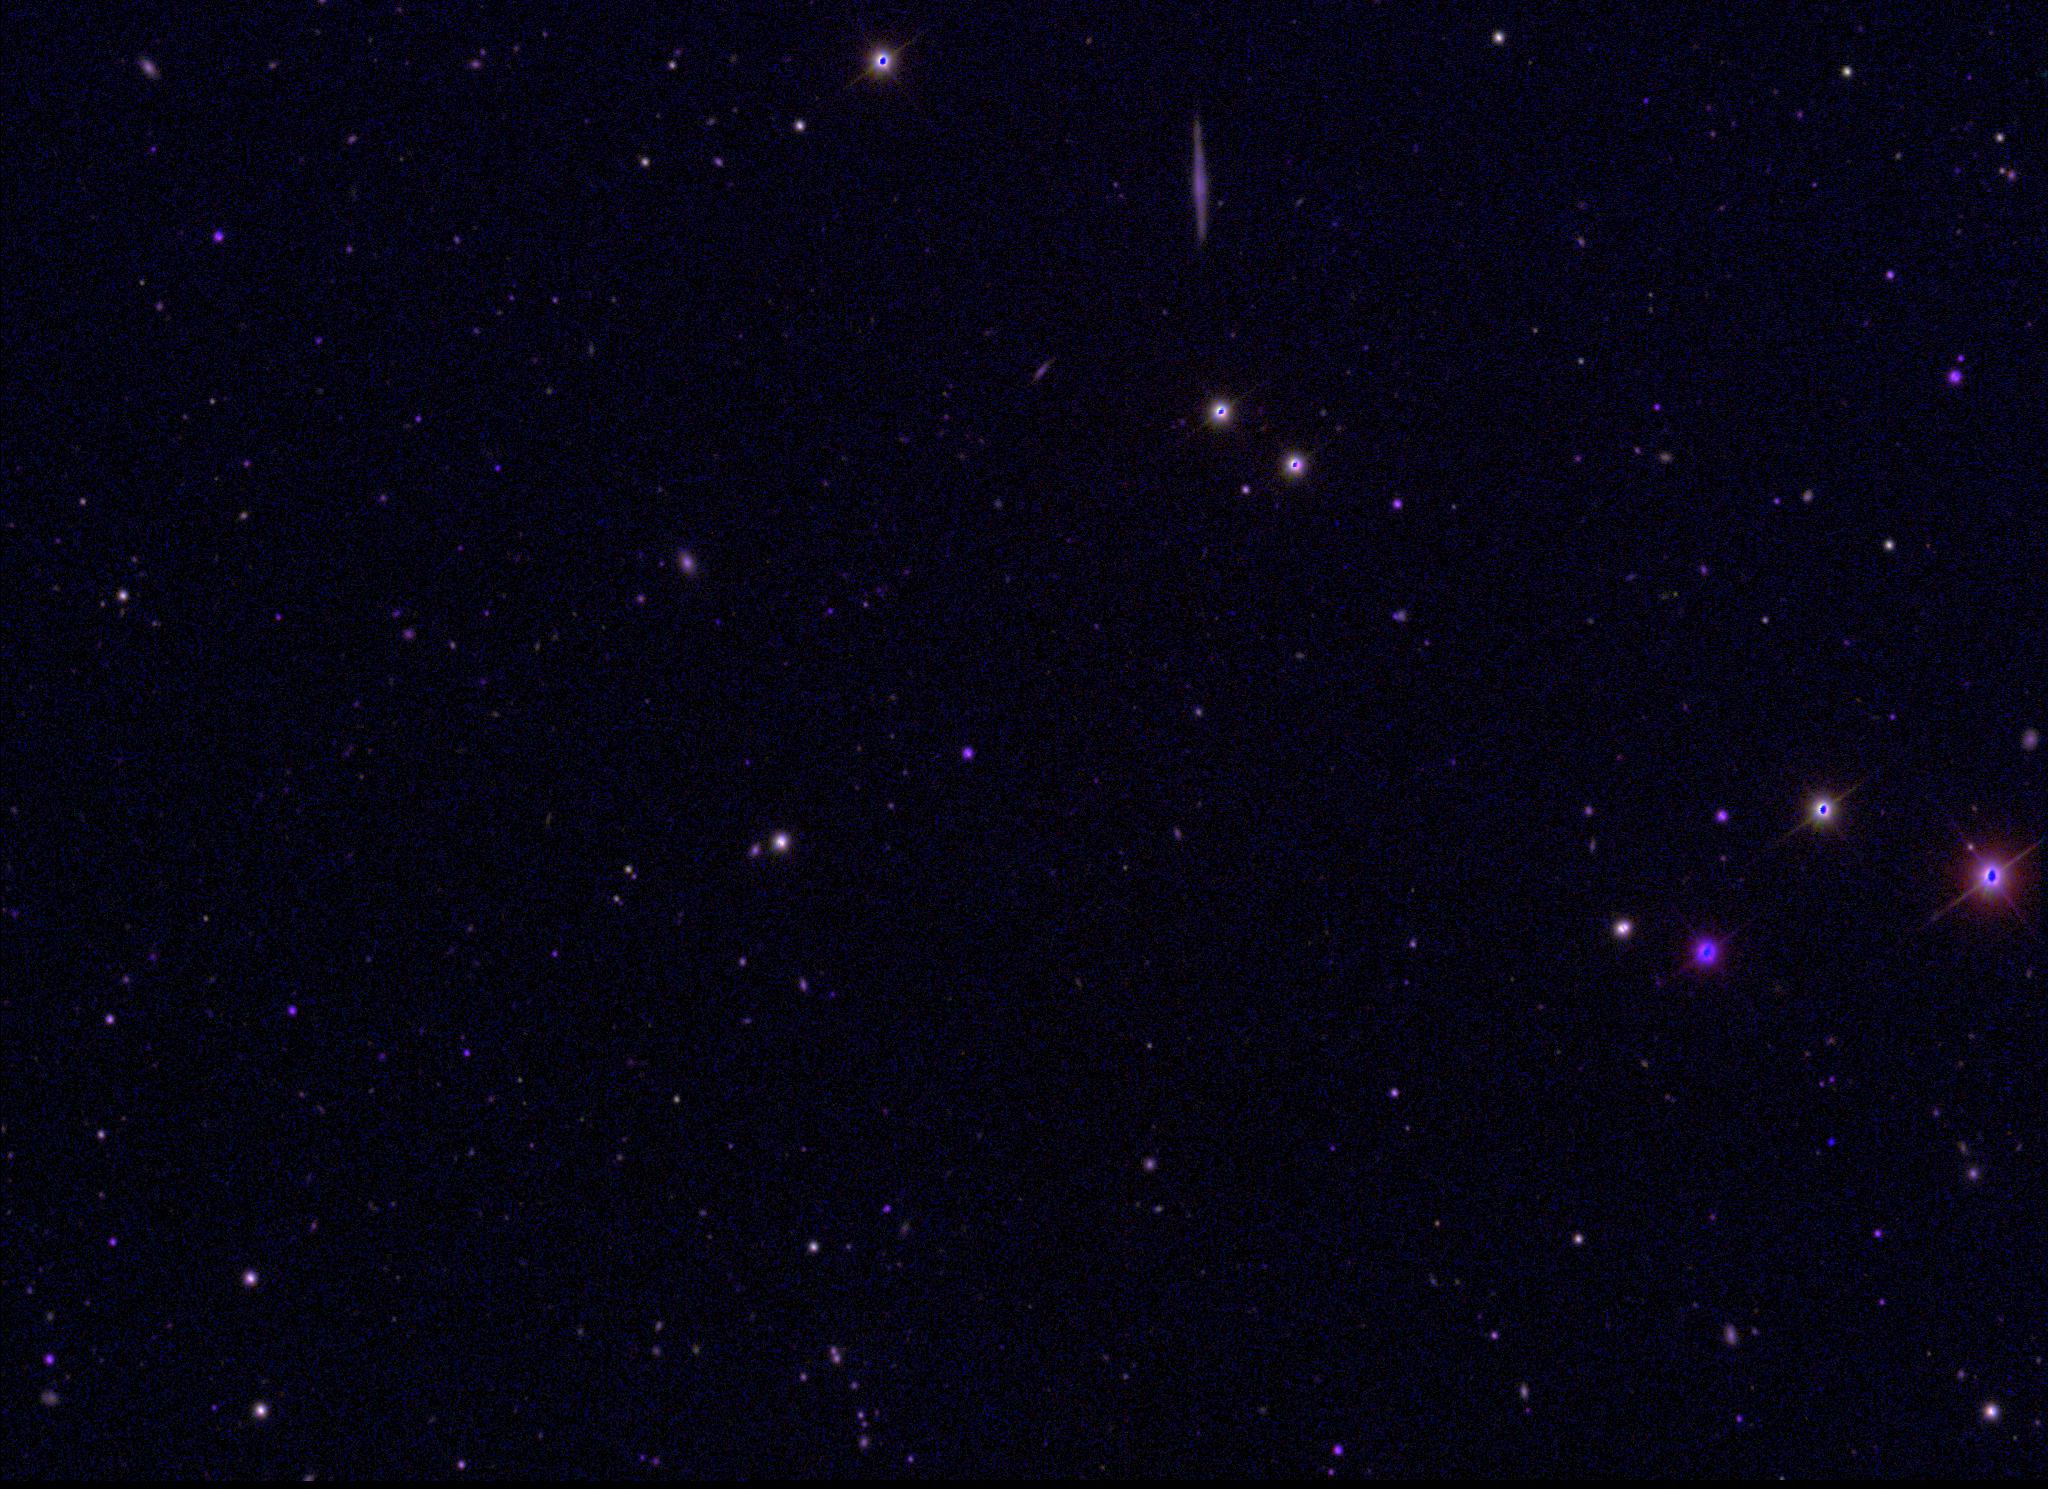L: (1824, 1134, 1838, 1149)
